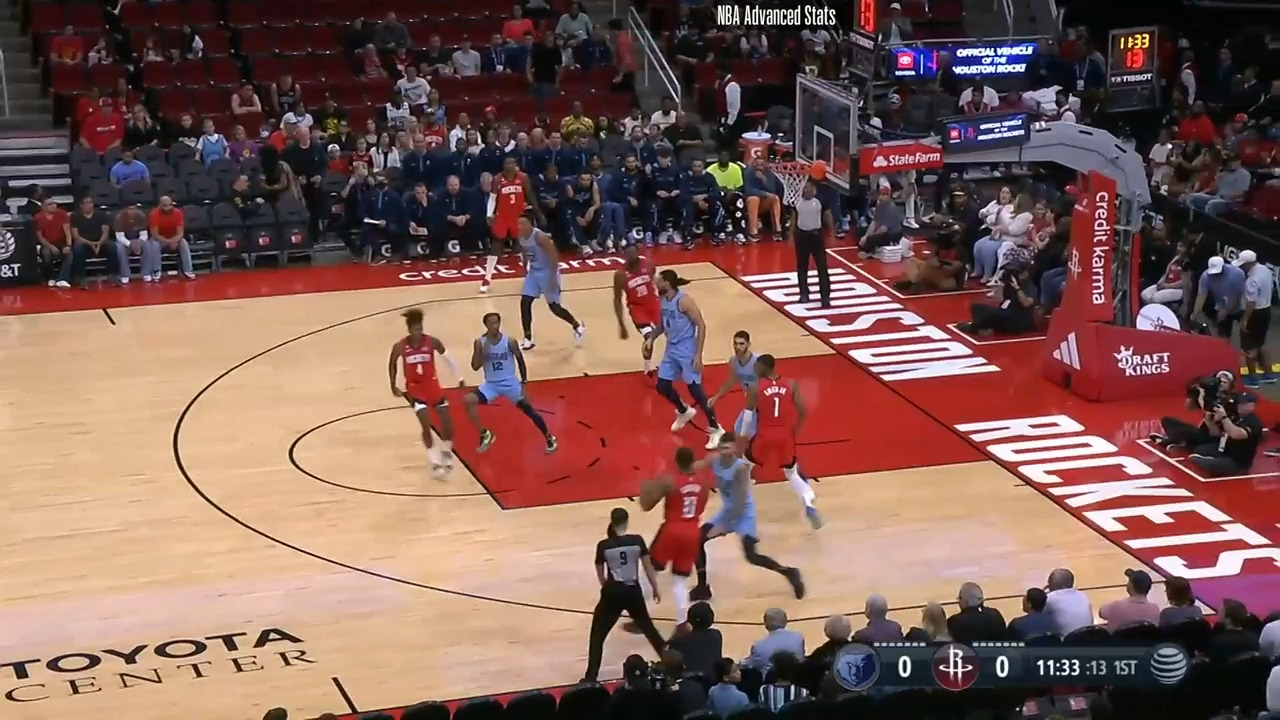net: (771, 155, 831, 205)
player: (693, 430, 811, 610), (722, 349, 826, 546), (638, 443, 720, 630), (389, 308, 473, 487), (645, 263, 726, 442), (467, 312, 563, 460), (508, 208, 590, 353), (472, 157, 532, 297), (618, 241, 673, 390), (706, 331, 768, 453)
referee: (579, 504, 674, 684), (787, 174, 838, 311)
